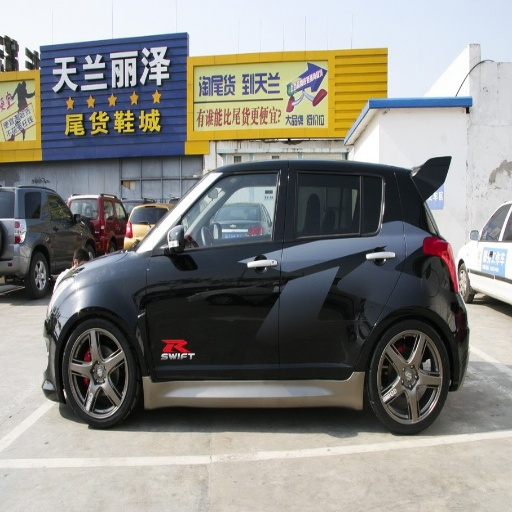back_left_door: (280, 168, 401, 379)
